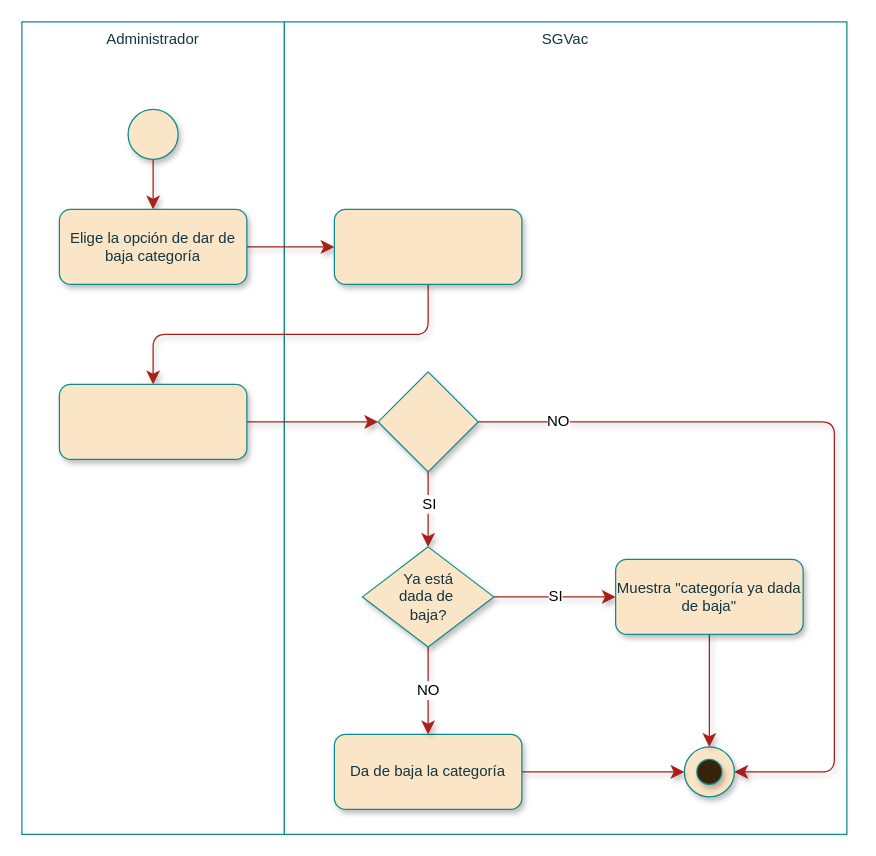
Some shapes in this 876 by 856 pixel diagram are drawn without their labels. The centre of each missing label's shape, as x and y in pixels:
"Acepta o cancela" goes at pixel 153 423.
"Confirma?" goes at pixel 429 423.
"Muestra confirmación" goes at pixel 428 248.
